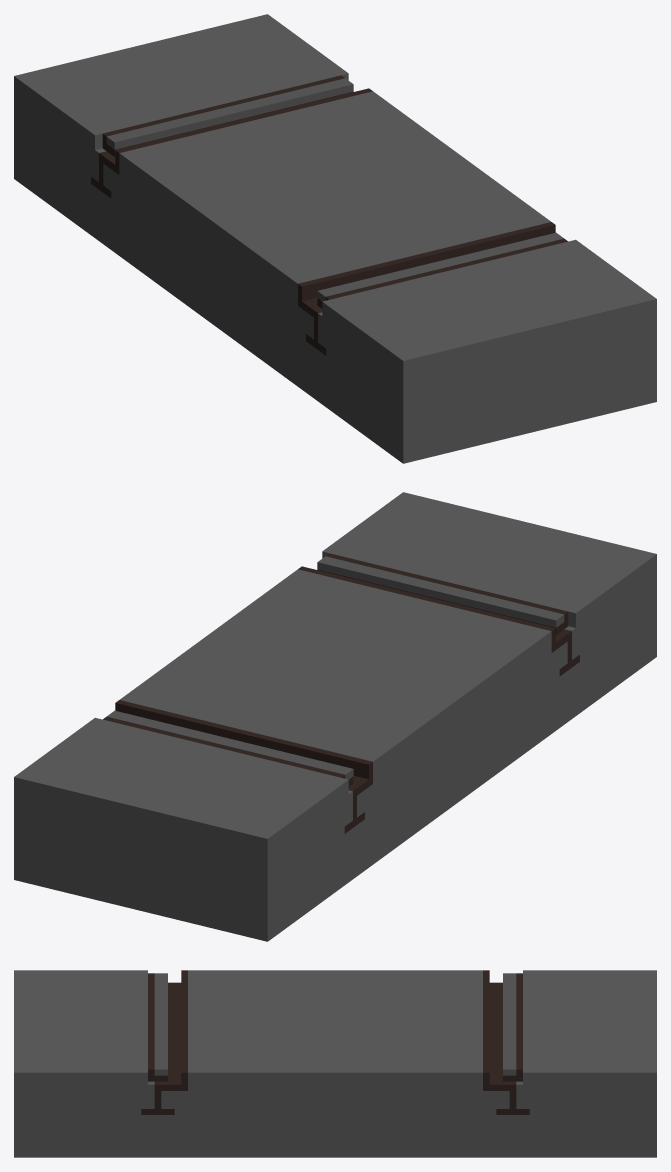
File: voxel-highbed.obj
3 views of the same model, one above another, from view 1: azimuth 30°, elevation 25°; view 2: azimuth 150°, elevation 25°; view 3: azimuth 270°, elevation 25° (orthographic). The views are drawn at different scales.
Visible parts, largest first — view 1: RAIL_BASE, RAIL_RIGHT, RAIL_LEFT; view 2: RAIL_BASE, RAIL_LEFT, RAIL_RIGHT; view 3: RAIL_BASE, RAIL_RIGHT, RAIL_LEFT.
Part boxes in pixels (x1,y1,x2,y2): RAIL_BASE: (14, 14, 656, 463); RAIL_RIGHT: (102, 75, 353, 156); RAIL_LEFT: (317, 232, 567, 308); RAIL_BASE: (14, 492, 656, 941); RAIL_LEFT: (317, 553, 568, 634); RAIL_RIGHT: (103, 710, 353, 786); RAIL_BASE: (14, 970, 656, 1157); RAIL_RIGHT: (503, 973, 522, 1081); RAIL_LEFT: (148, 973, 167, 1081).
Bounding box in the file's own units: 1.13 × 0.4375 × 3.
1 material, 1 textured.
